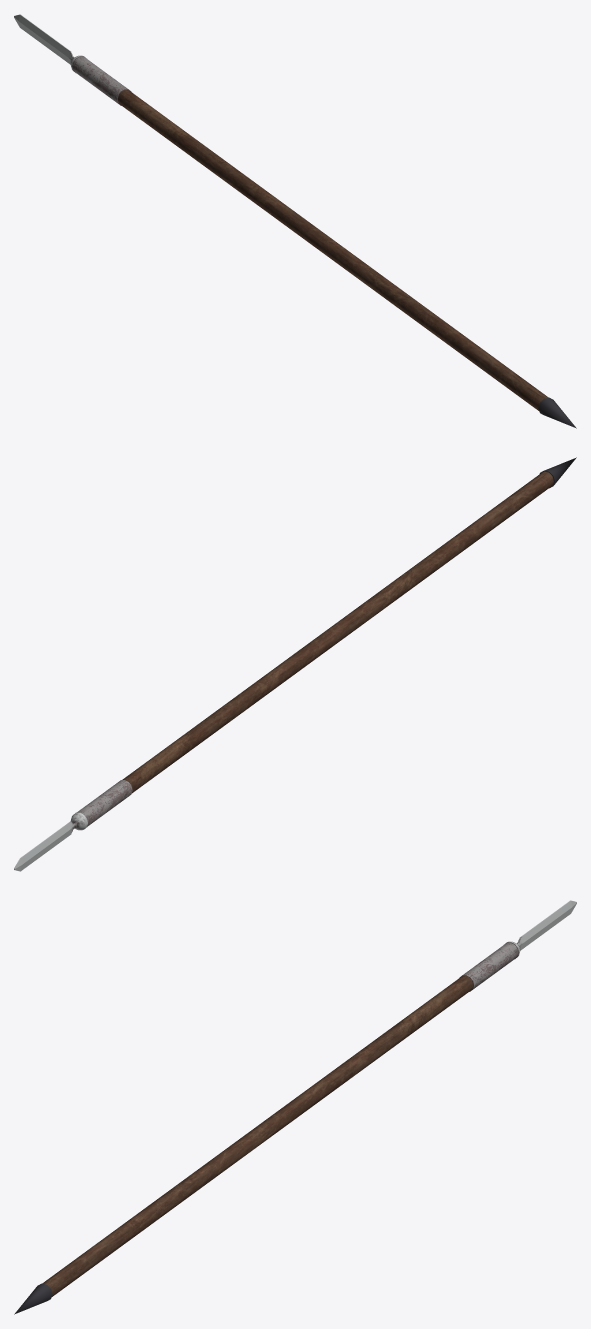
Rendered from SM_Spear.fbx.
3 renders of one model, top to bottom at view 1: azimuth 30°, elevation 25°; view 2: azimuth 150°, elevation 25°; view 3: azimuth 330°, elevation 25°, orthographic.
Parts seen in each view (by area): view 1: SM_Spear; view 2: SM_Spear; view 3: SM_Spear.
Part boxes in pixels (bbox=[...]): SM_Spear: bbox=[14, 14, 576, 428]; SM_Spear: bbox=[14, 457, 576, 871]; SM_Spear: bbox=[14, 900, 576, 1314].
Bounding box in the file's own units: 6.08 × 356 × 6.
1 material, 1 textured.
